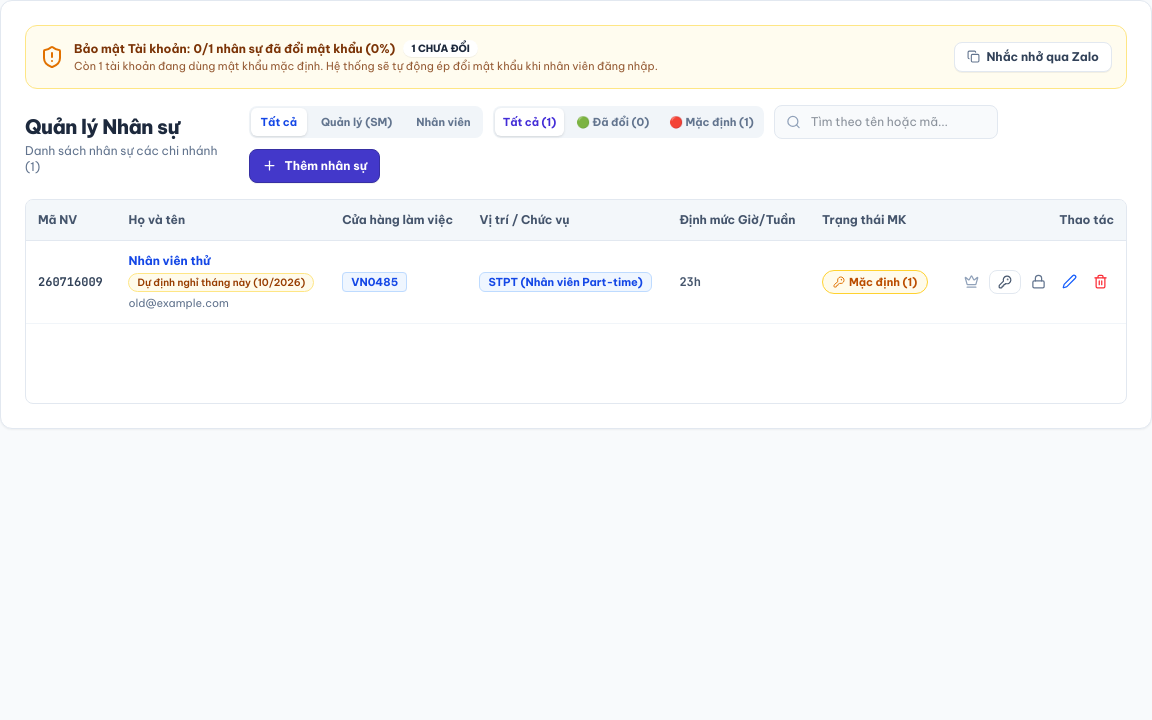
it: shows manager reminder and personal details from scoped API
Click the button titled "Xem hồ sơ Nhân viên thử". click: coordinates (169, 261)
box: 128,253 -> 210,269
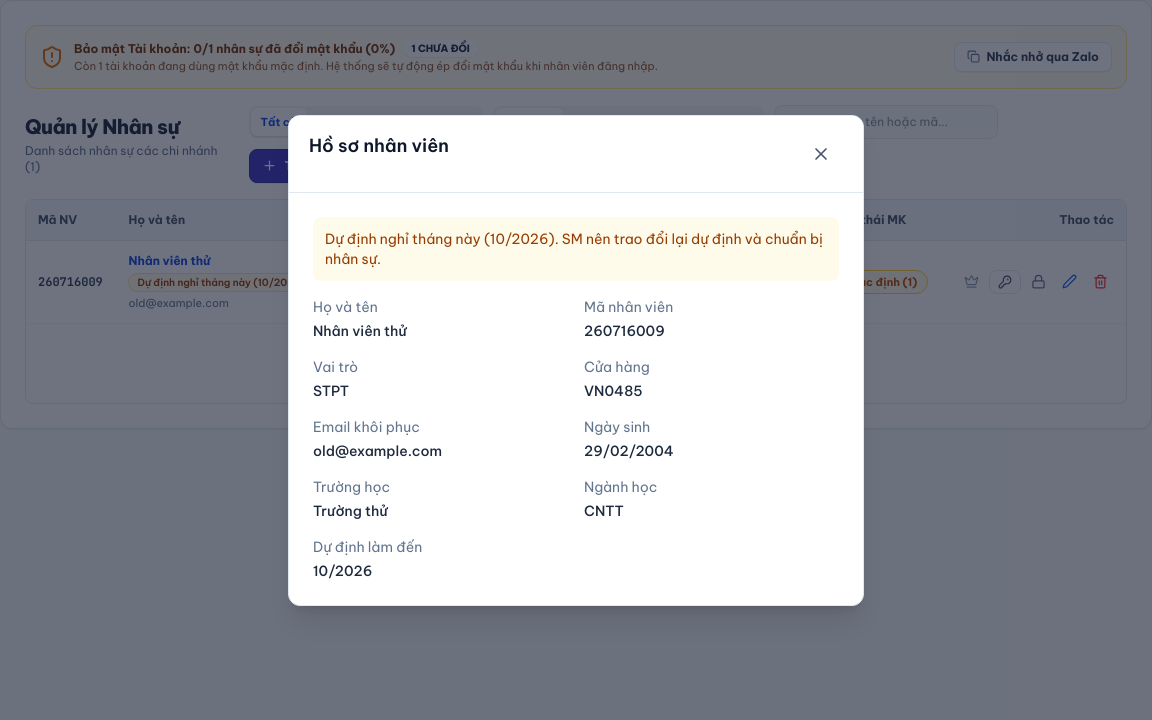
Expected: the text "29/02/2004" is shown, 584,442 -> 674,460
Expected: the text "Trường thử" is shown, 313,502 -> 388,520
Expected: the text "CNTT" is shown, 584,502 -> 624,520
